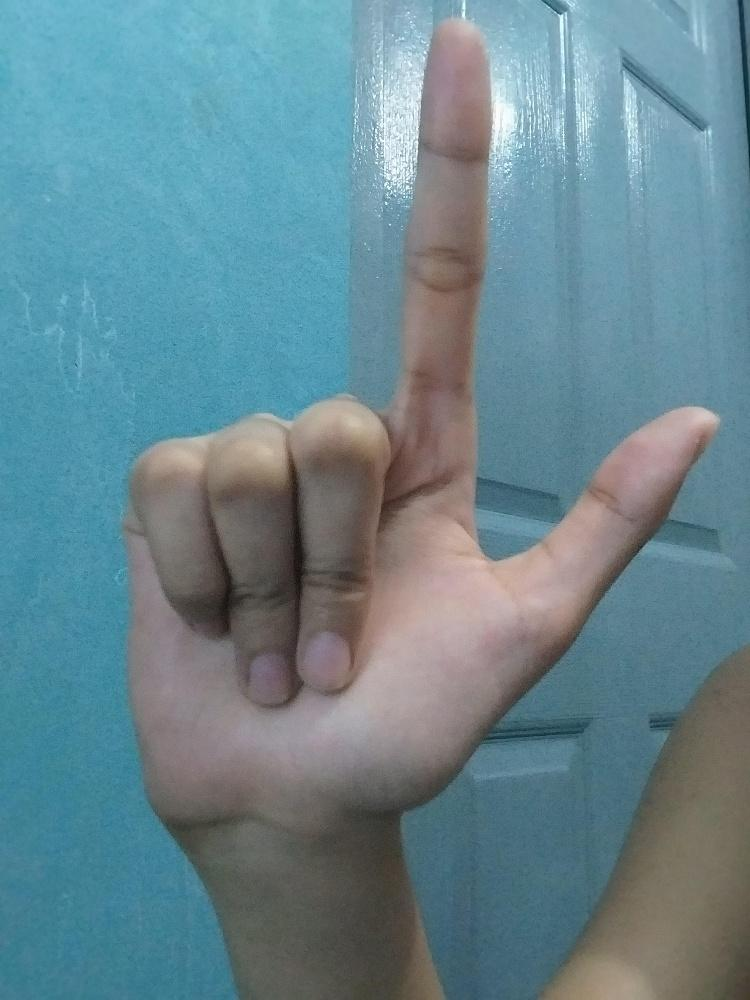l: (122, 17, 711, 831)
